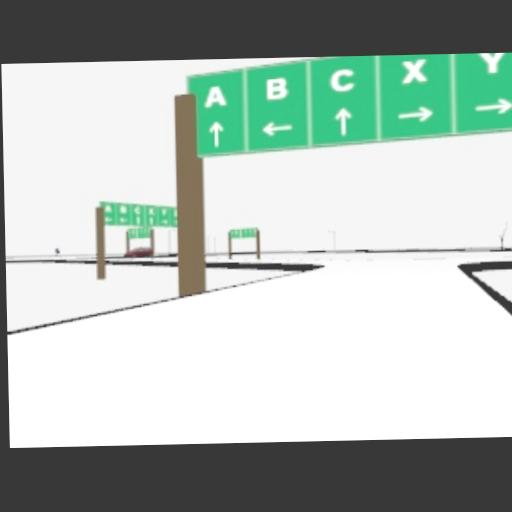A: (205, 86, 226, 107)
B: (264, 76, 286, 100)
C: (329, 66, 355, 91)
Left: (260, 120, 294, 136)
Right: (474, 98, 512, 115), (395, 105, 433, 122)
Straight: (335, 107, 351, 136), (208, 120, 224, 146)
X: (402, 58, 428, 84)
Y: (477, 53, 508, 73)
